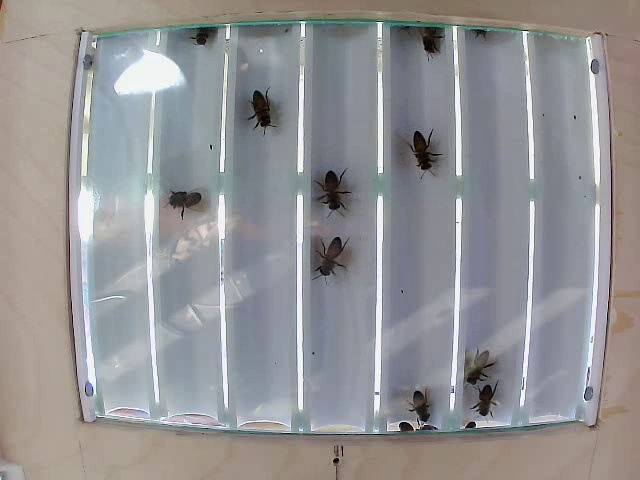bee: (236, 87, 296, 137), (399, 380, 440, 433), (404, 124, 442, 181), (315, 164, 351, 218), (310, 237, 349, 286), (173, 182, 213, 225), (461, 344, 494, 385), (472, 384, 506, 422)
